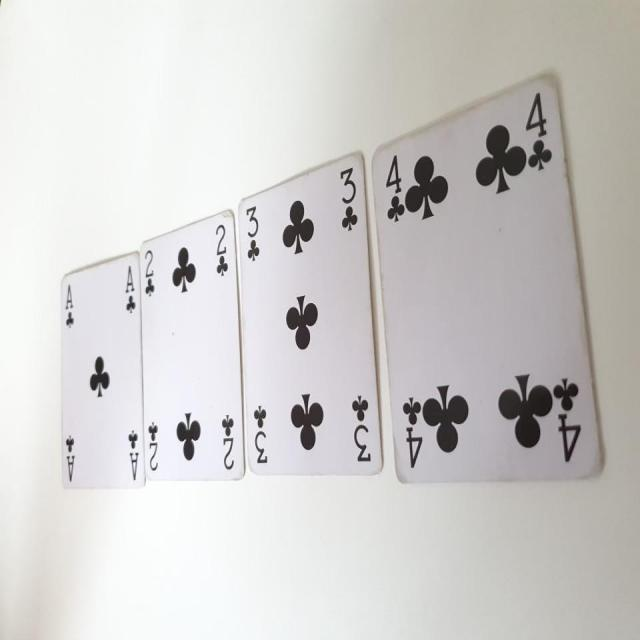2 Trefoils: (139, 209, 246, 481)
3 Trefoils: (236, 150, 386, 478)
4 Trefoils: (370, 73, 605, 486)
A Trefoils: (59, 250, 146, 492)
